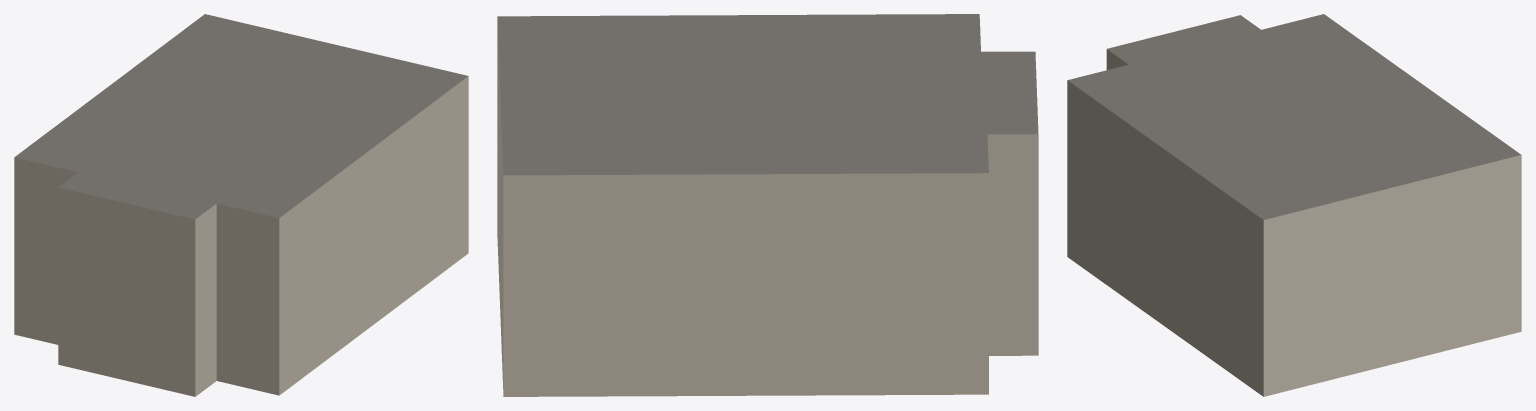
3 views of the same model, side by side, from view 1: azimuth 30°, elevation 25°; view 2: azimuth 150°, elevation 25°; view 3: azimuth 270°, elevation 25° (orthographic). The views are drawn at different scales.
Visible parts, largest first — view 1: HP-w369237875; view 2: HP-w369237875; view 3: HP-w369237875.
Part boxes in pixels (x1,y1,x2,y2): HP-w369237875: (14,14,468,396); HP-w369237875: (497,14,1038,396); HP-w369237875: (1067,14,1521,396).
Size of the model in its own units: 45 by 18 by 41.9.
